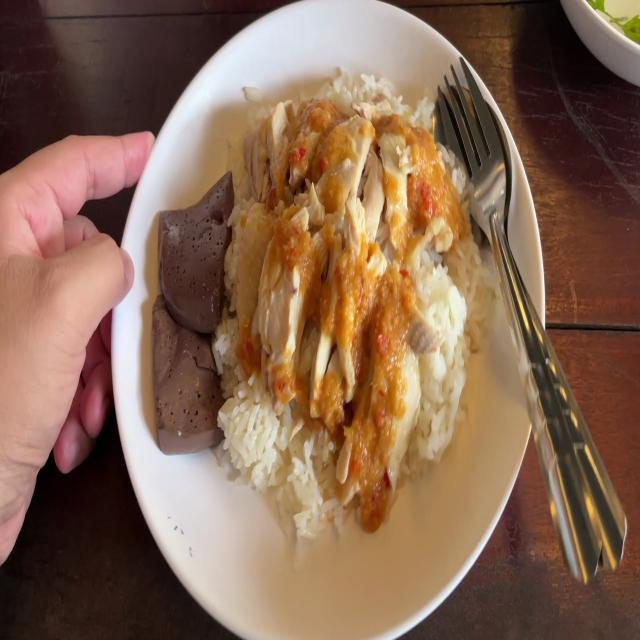chicken_rice: (250, 113, 433, 413)
noodle: (155, 180, 226, 448)
